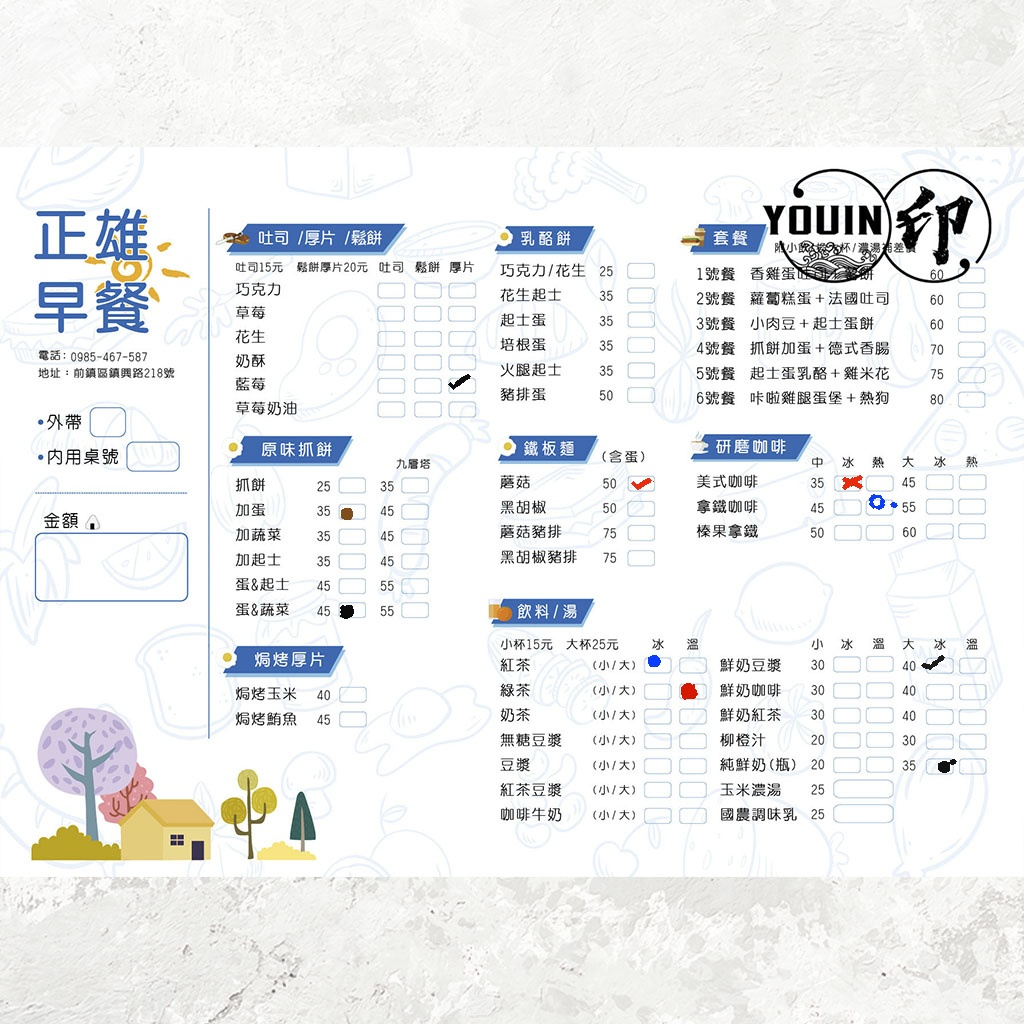marked_circle: (644, 657, 670, 671), (338, 503, 364, 517), (338, 602, 364, 616), (925, 759, 951, 773), (678, 686, 704, 700)
marked_hollow: (866, 499, 892, 513)
marked_tick: (926, 657, 952, 671), (627, 474, 653, 488), (448, 378, 474, 392)
marked_x: (833, 476, 859, 490)
